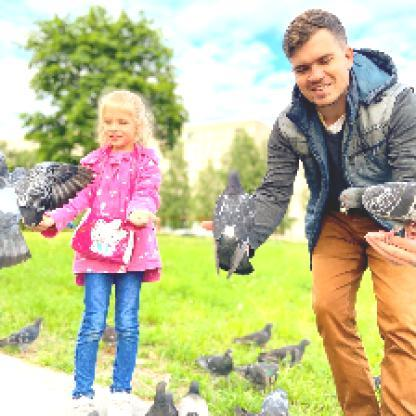child: (25, 90, 166, 415)
